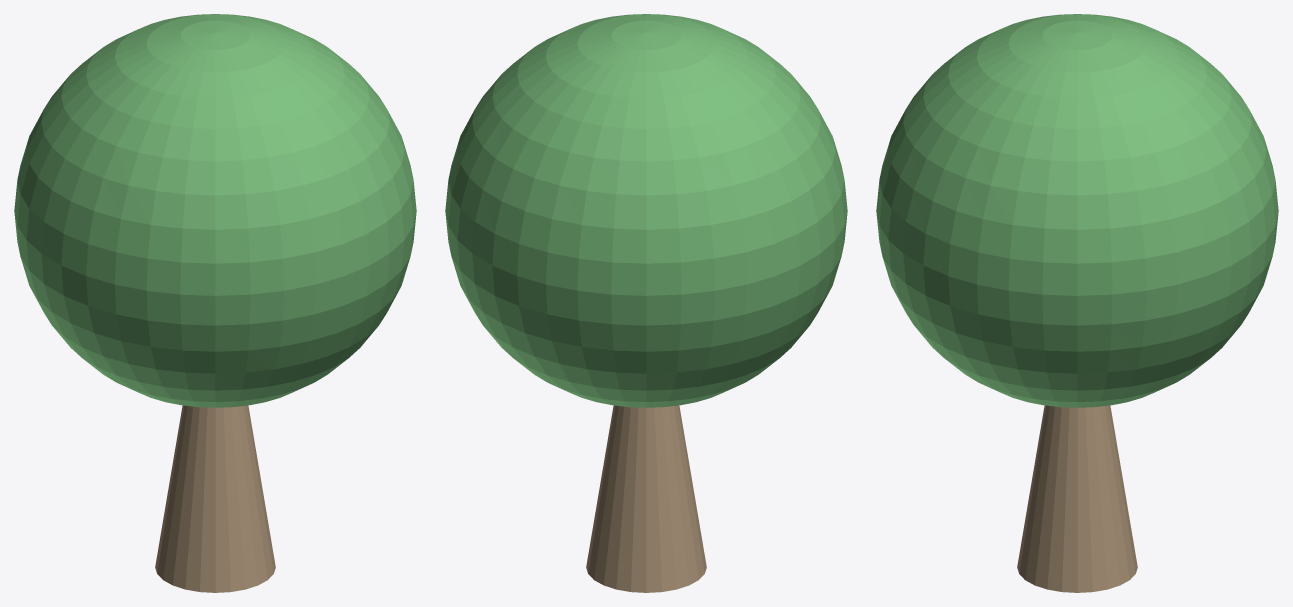
The model's file is tree.glb.
The picture shows the model from 3 angles, left to right: view 1: azimuth 30°, elevation 25°; view 2: azimuth 150°, elevation 25°; view 3: azimuth 270°, elevation 25°; orthographic projection.
Visible parts, largest first — view 1: Mesh_Mesh_head_geo.001_lambert2SG.001; view 2: Mesh_Mesh_head_geo.001_lambert2SG.001; view 3: Mesh_Mesh_head_geo.001_lambert2SG.001.
Part boxes in pixels (box(x1,y1,x2,y2)): Mesh_Mesh_head_geo.001_lambert2SG.001: box(14, 14, 416, 592); Mesh_Mesh_head_geo.001_lambert2SG.001: box(445, 14, 847, 592); Mesh_Mesh_head_geo.001_lambert2SG.001: box(876, 14, 1278, 592).
Size of the model in its own units: 0.015 by 0.022 by 0.015.
